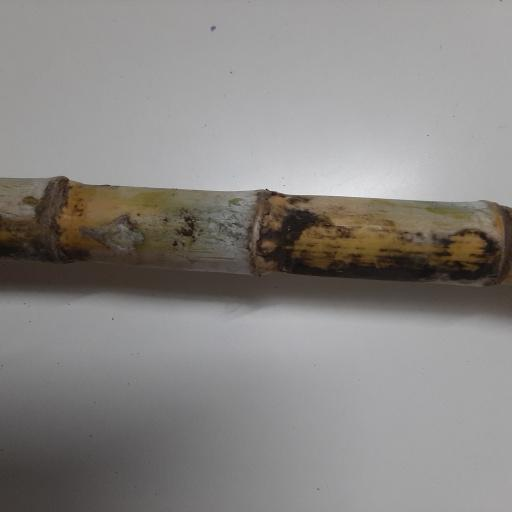Bud: (256, 239, 277, 254)
